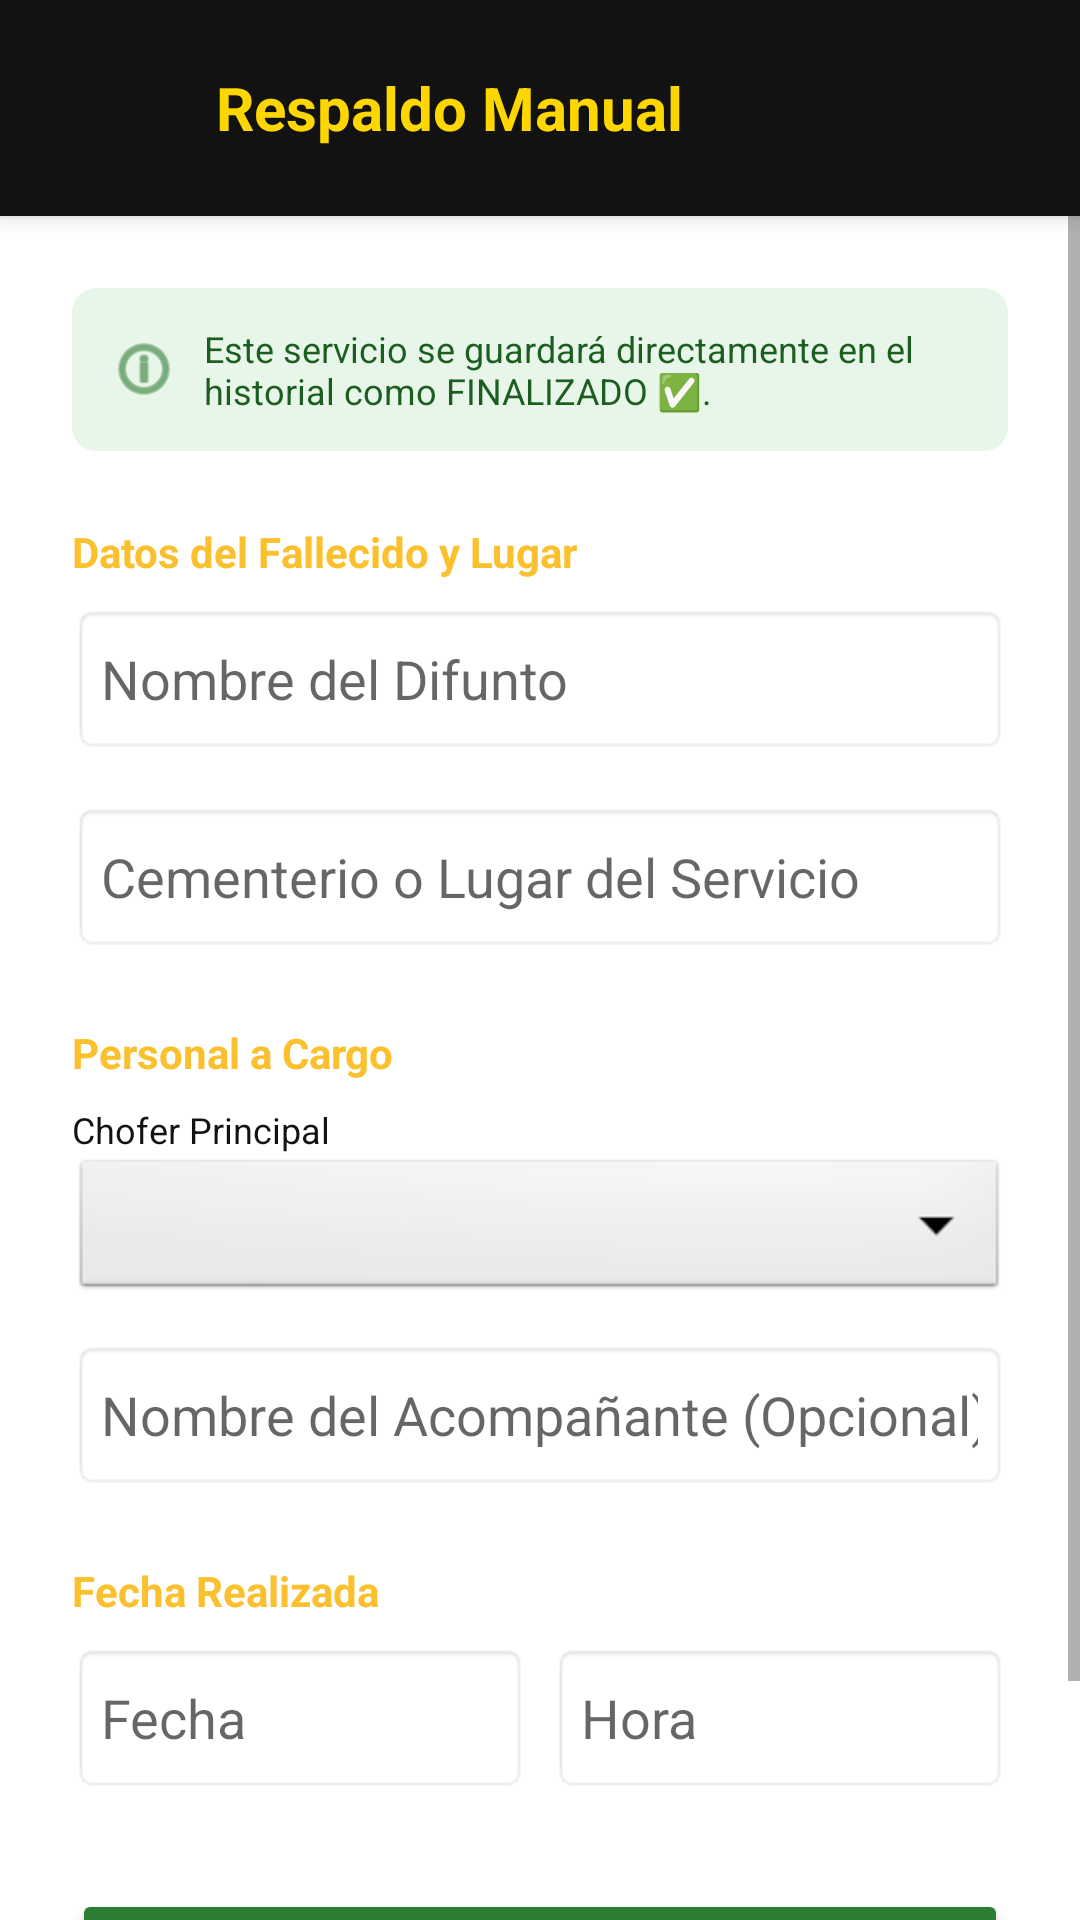

Named icons in this screenshot (1080w x 1920h) and their centers, (x,y):
info details: (144,369)
